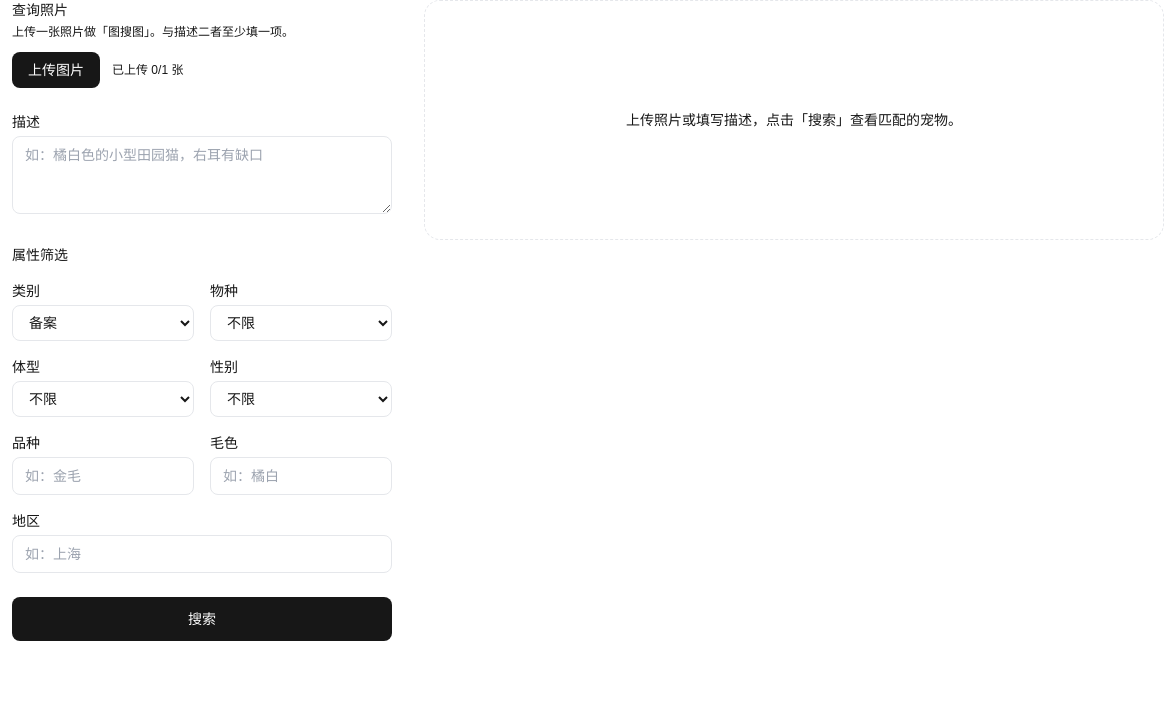
Test: SearchForm › shows pagination controls when results span multiple pages
Type "cat" into the text box labelled "描述" at (202, 175), box [12,136,392,214]
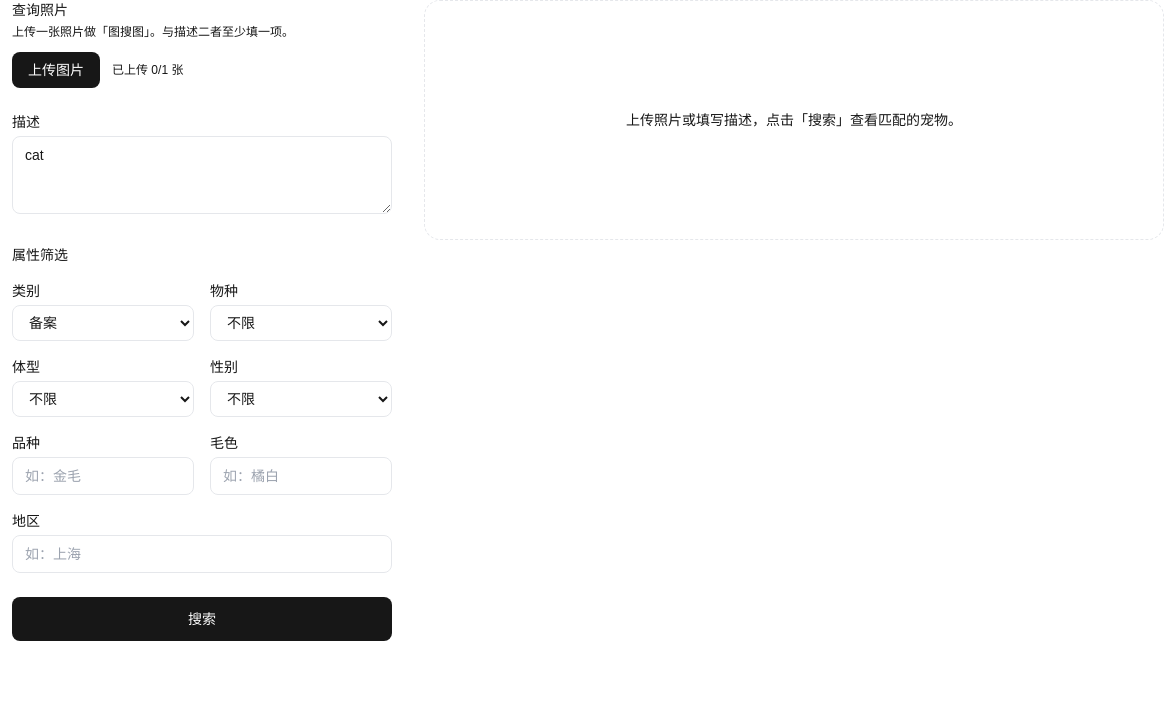
Click the button "搜索" at (202, 619), box [12,597,392,641]
(page scrolled)
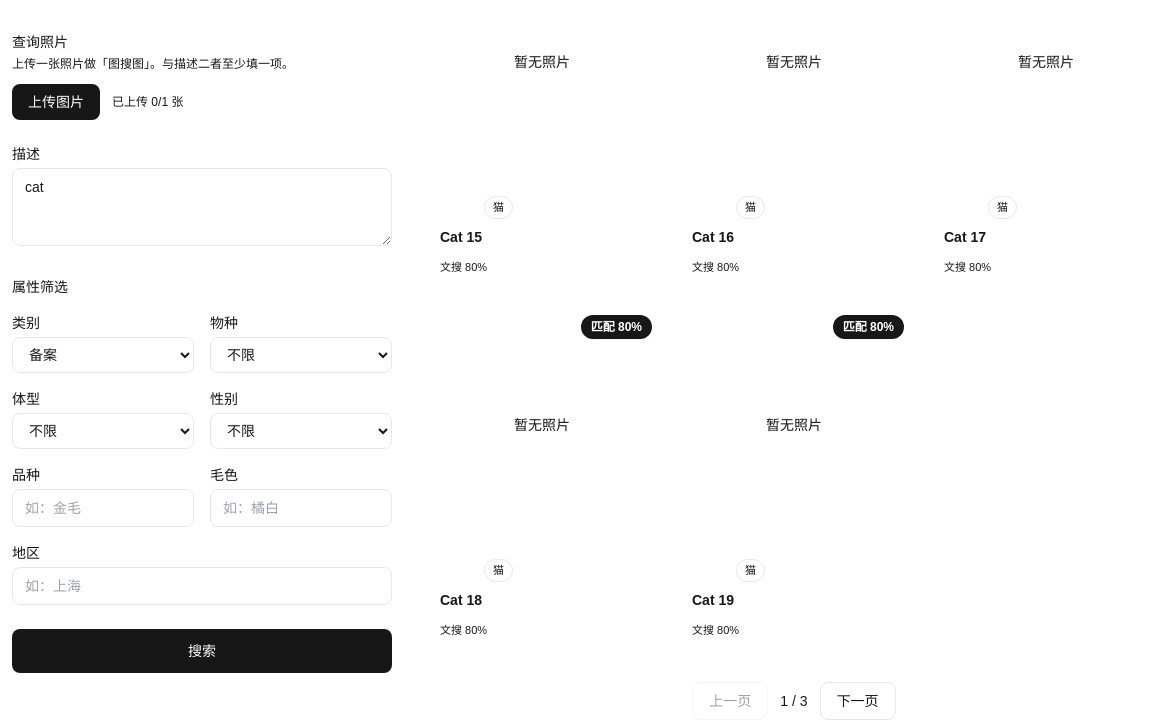
Check: the button "下一页" is shown, box [820,682,896,719]
Check: the button "上一页" is disabled, box [692,682,768,719]
